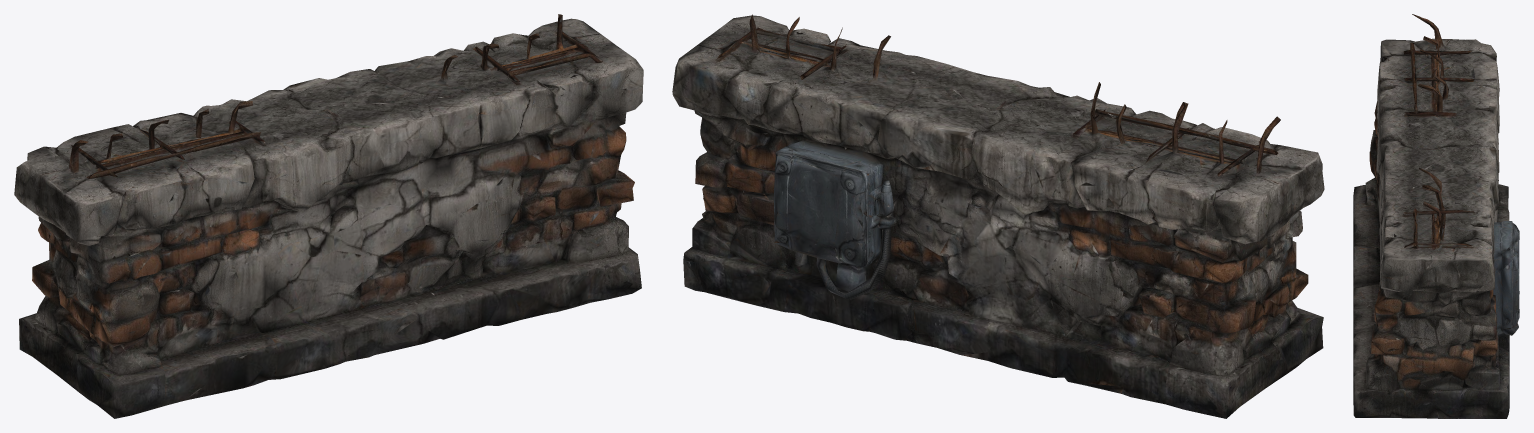
The model's file is rebar_wall.glb.
3 renders of one model, left to right at view 1: azimuth 30°, elevation 25°; view 2: azimuth 150°, elevation 25°; view 3: azimuth 270°, elevation 25°, orthographic. The views are drawn at different scales.
Parts seen in each view (by area): view 1: rebar_wall; view 2: rebar_wall; view 3: rebar_wall.
Part boxes in pixels (left/top/right/bottom): rebar_wall: left=14, top=14, right=643, bottom=418; rebar_wall: left=672, top=14, right=1324, bottom=418; rebar_wall: left=1353, top=14, right=1519, bottom=418.
Bounding box in the file's own units: 1.9 × 0.8013 × 0.5999.
1 material, 1 textured.
